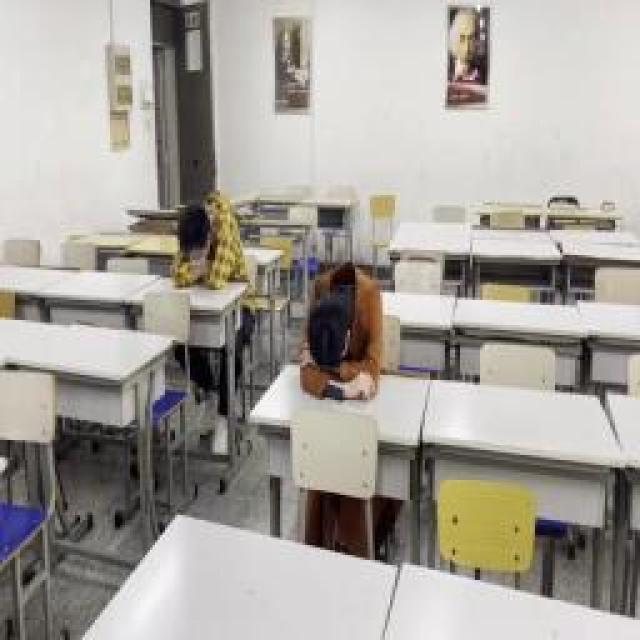sleep: (298, 260, 380, 402), (172, 192, 242, 288)
